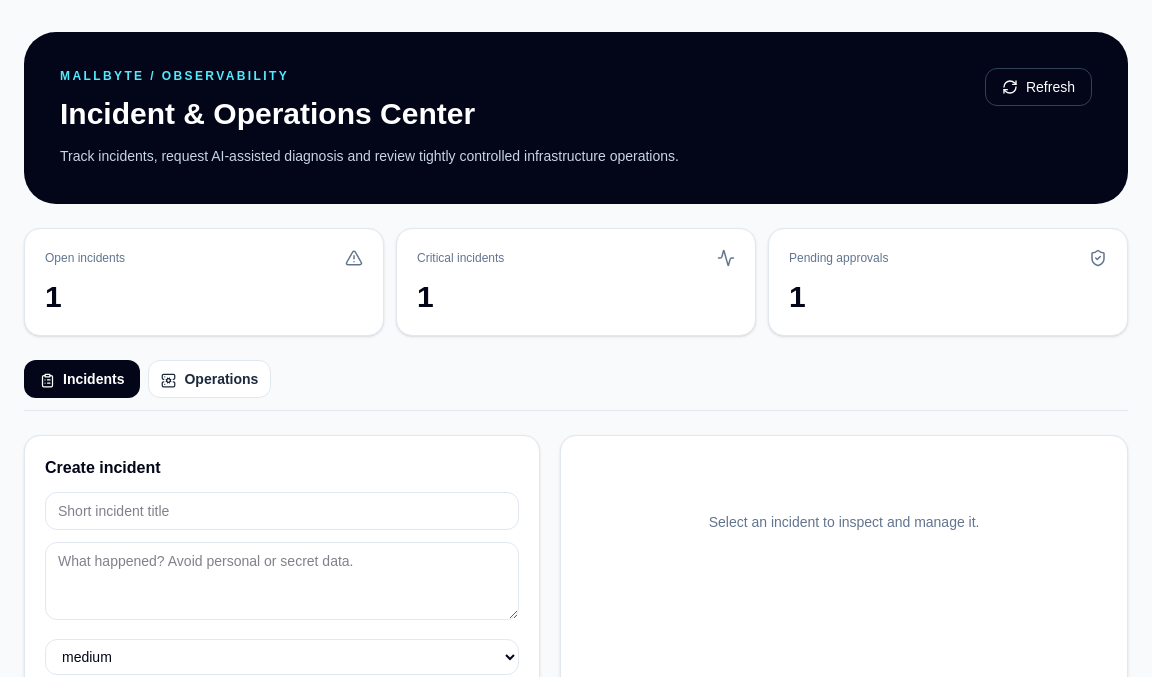
Test: Incident and operations workbench › shows safe errors when request fails
Expected: the heading "Create incident" is shown, [45, 459, 161, 476]
Type "Synthetic incident failure" into the field labelled "incident title" at (282, 511), box [45, 492, 519, 530]
(page scrolled)
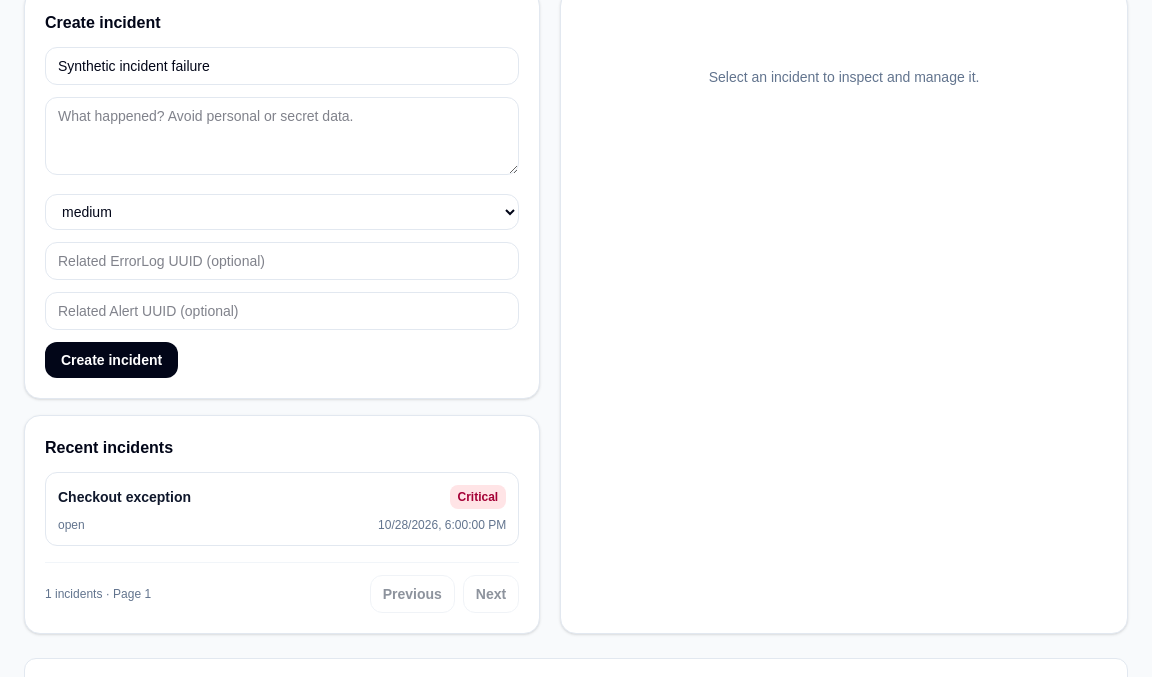
Click the button "Create incident" at (112, 360), box [45, 342, 178, 378]
(page scrolled)
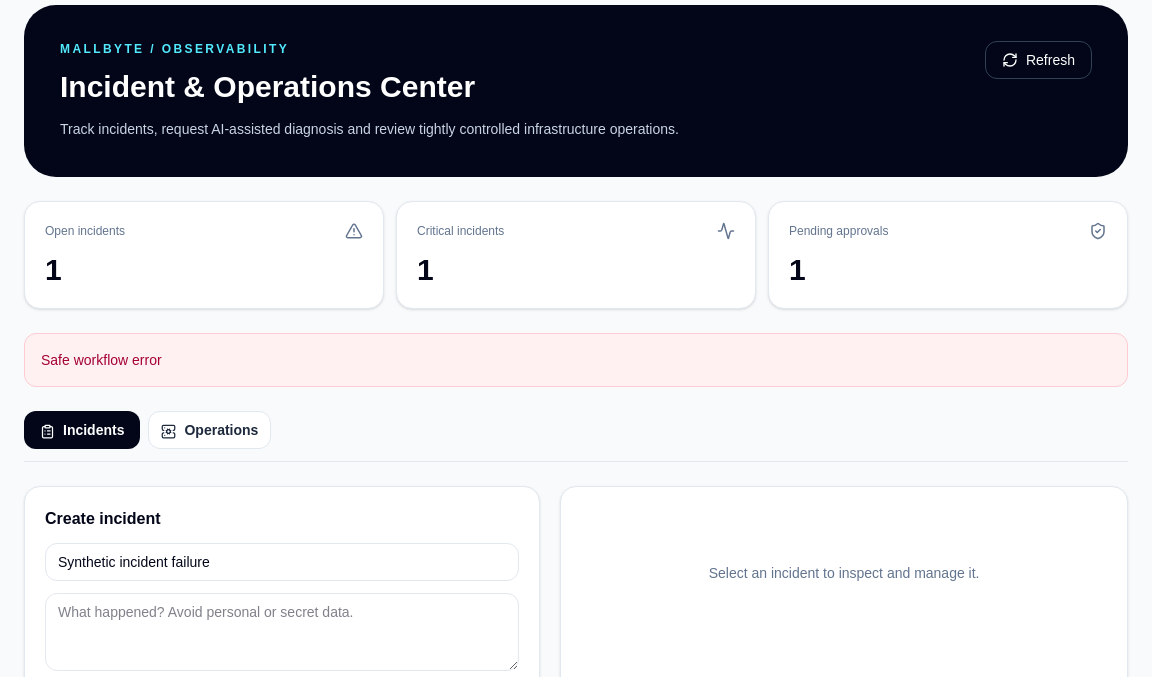
Expected: the message reads "Safe workflow error", [41, 352, 162, 368]
